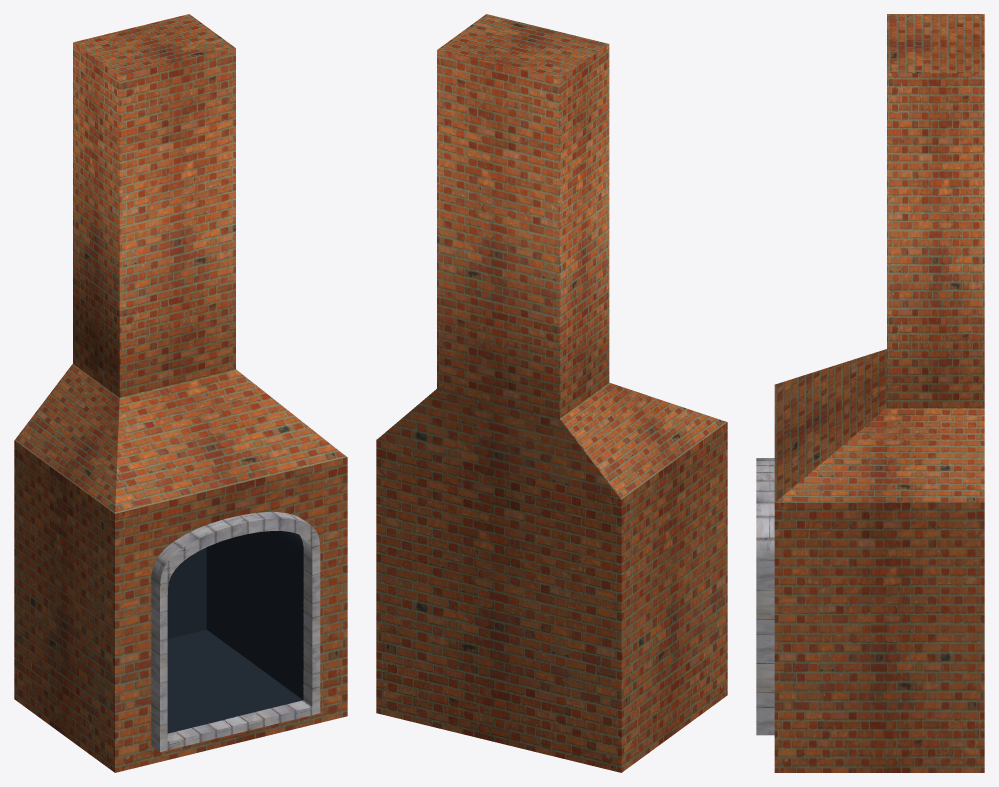
Rendered from Chimenea.obj.
3 views of the same model, side by side, from view 1: azimuth 30°, elevation 25°; view 2: azimuth 150°, elevation 25°; view 3: azimuth 270°, elevation 25° (orthographic). The views are drawn at different scales.
Parts seen in each view (by area): view 1: Chimenea:Chimenea:pCube8; view 2: Chimenea:Chimenea:pCube8; view 3: Chimenea:Chimenea:pCube8.
Boxes of the visible parts, <box> form: Chimenea:Chimenea:pCube8: <box>14,14,347,772</box>; Chimenea:Chimenea:pCube8: <box>376,14,727,772</box>; Chimenea:Chimenea:pCube8: <box>756,14,984,772</box>.
Size of the model in its own units: 8 by 21.13 by 6.53.
Materials: 4 (3 with a texture image).
